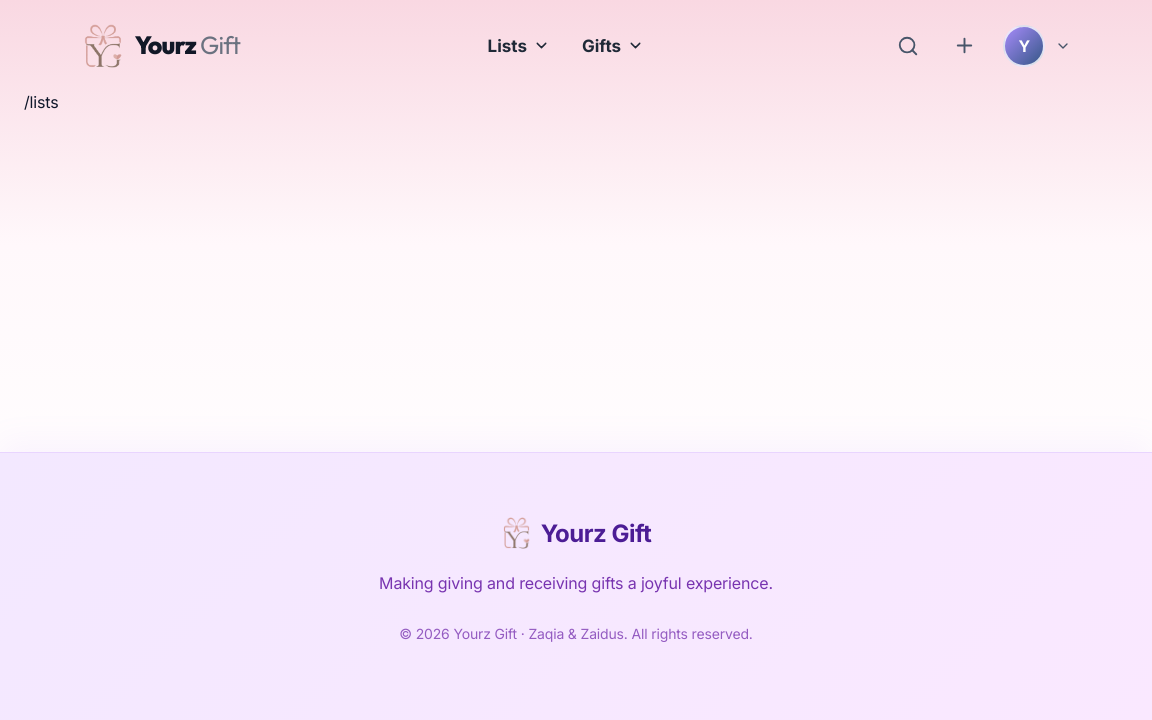
Test: common components › submits header search to gift list query
Click the button named "search". click: (908, 46)
box: [891,28,925,62]
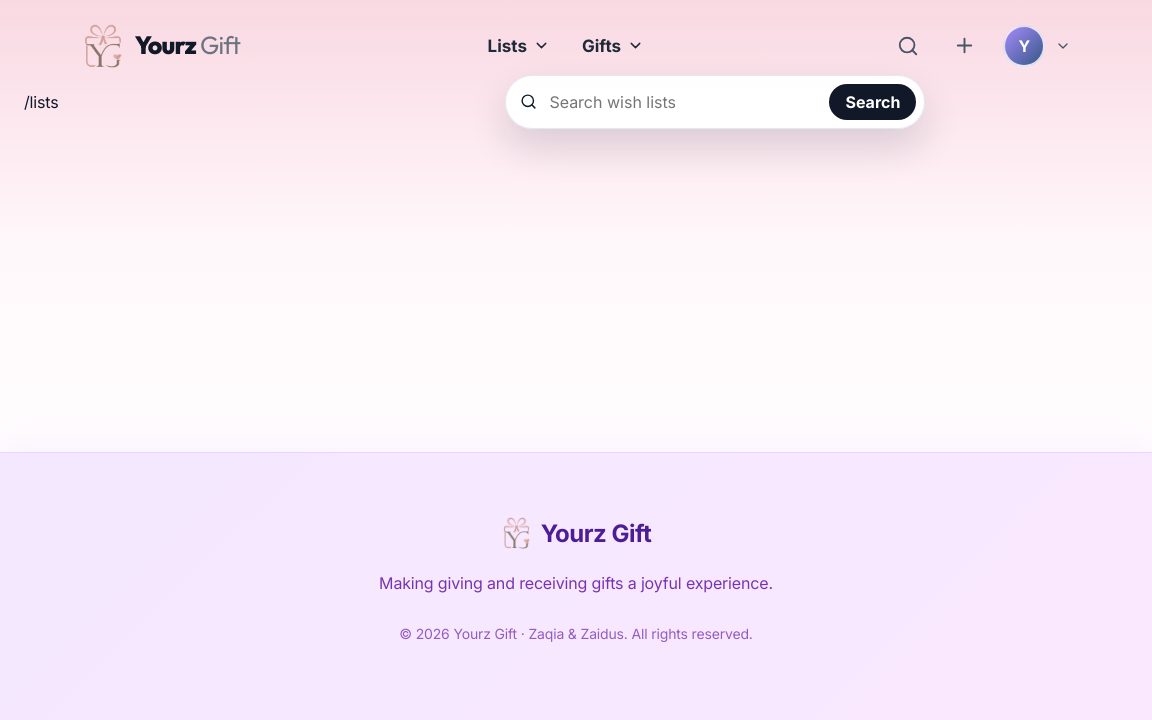
Type "birthday" into the field with placeholder "Search wish lists". click: (683, 102)
box: [547,84,819,120]
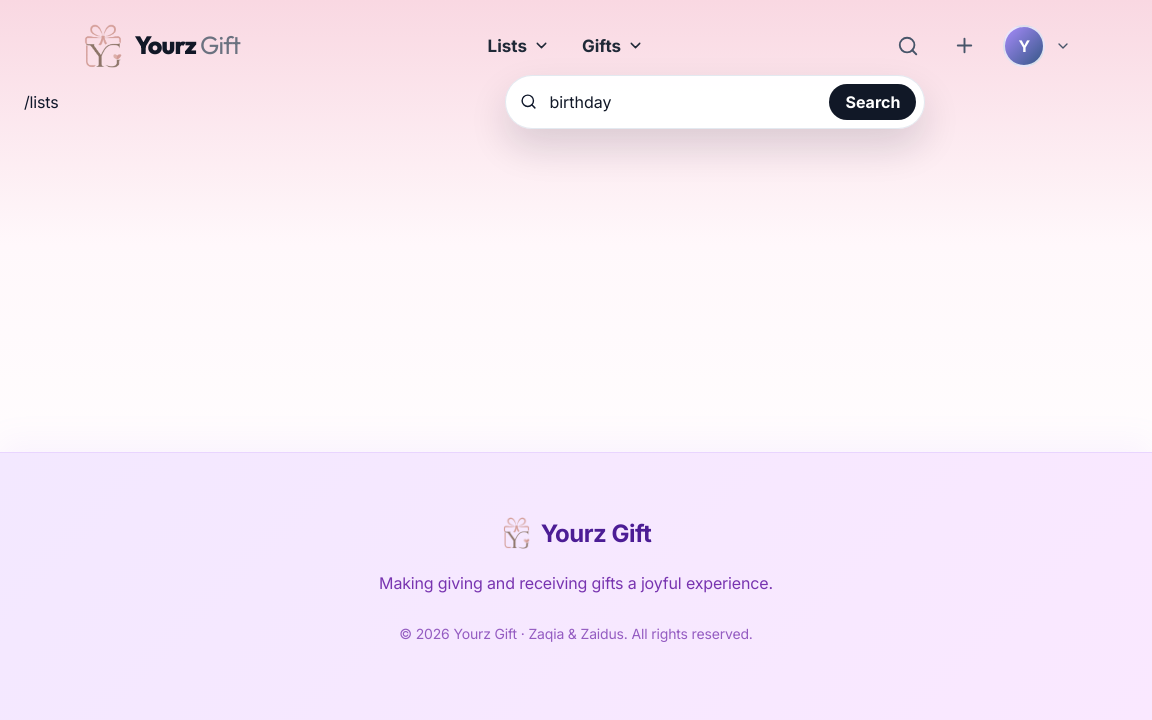
Press Enter
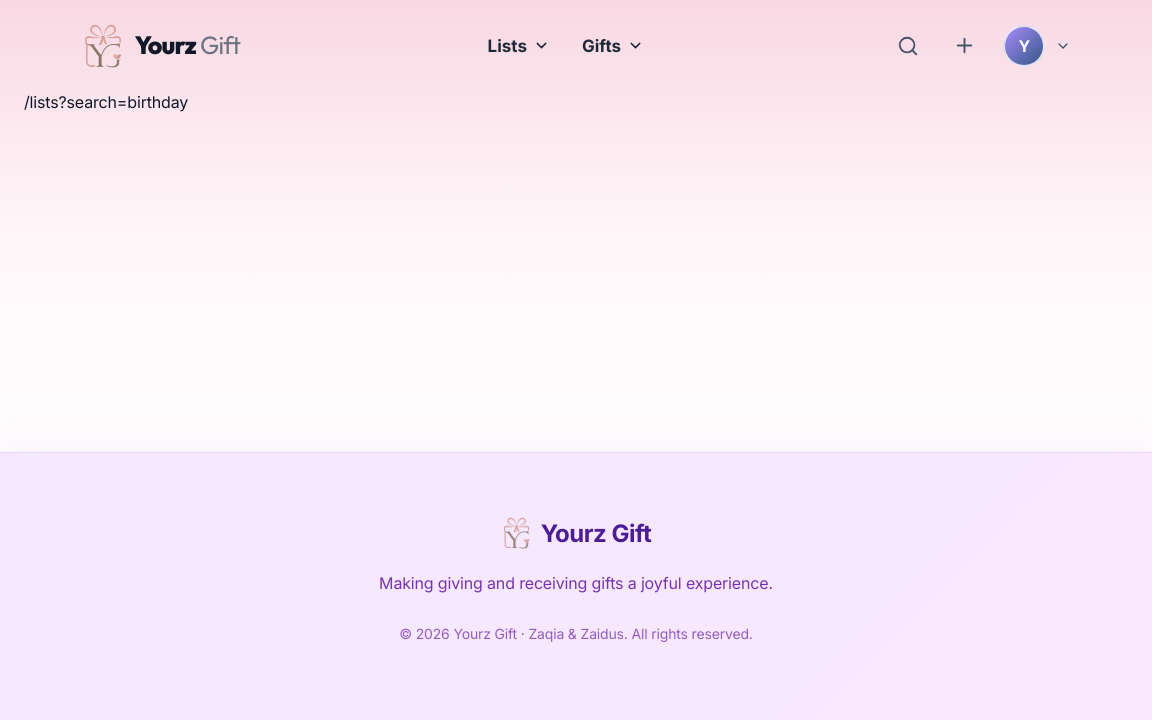
Result: the text "/lists?search=birthday" is shown at [24,92,188,112]
